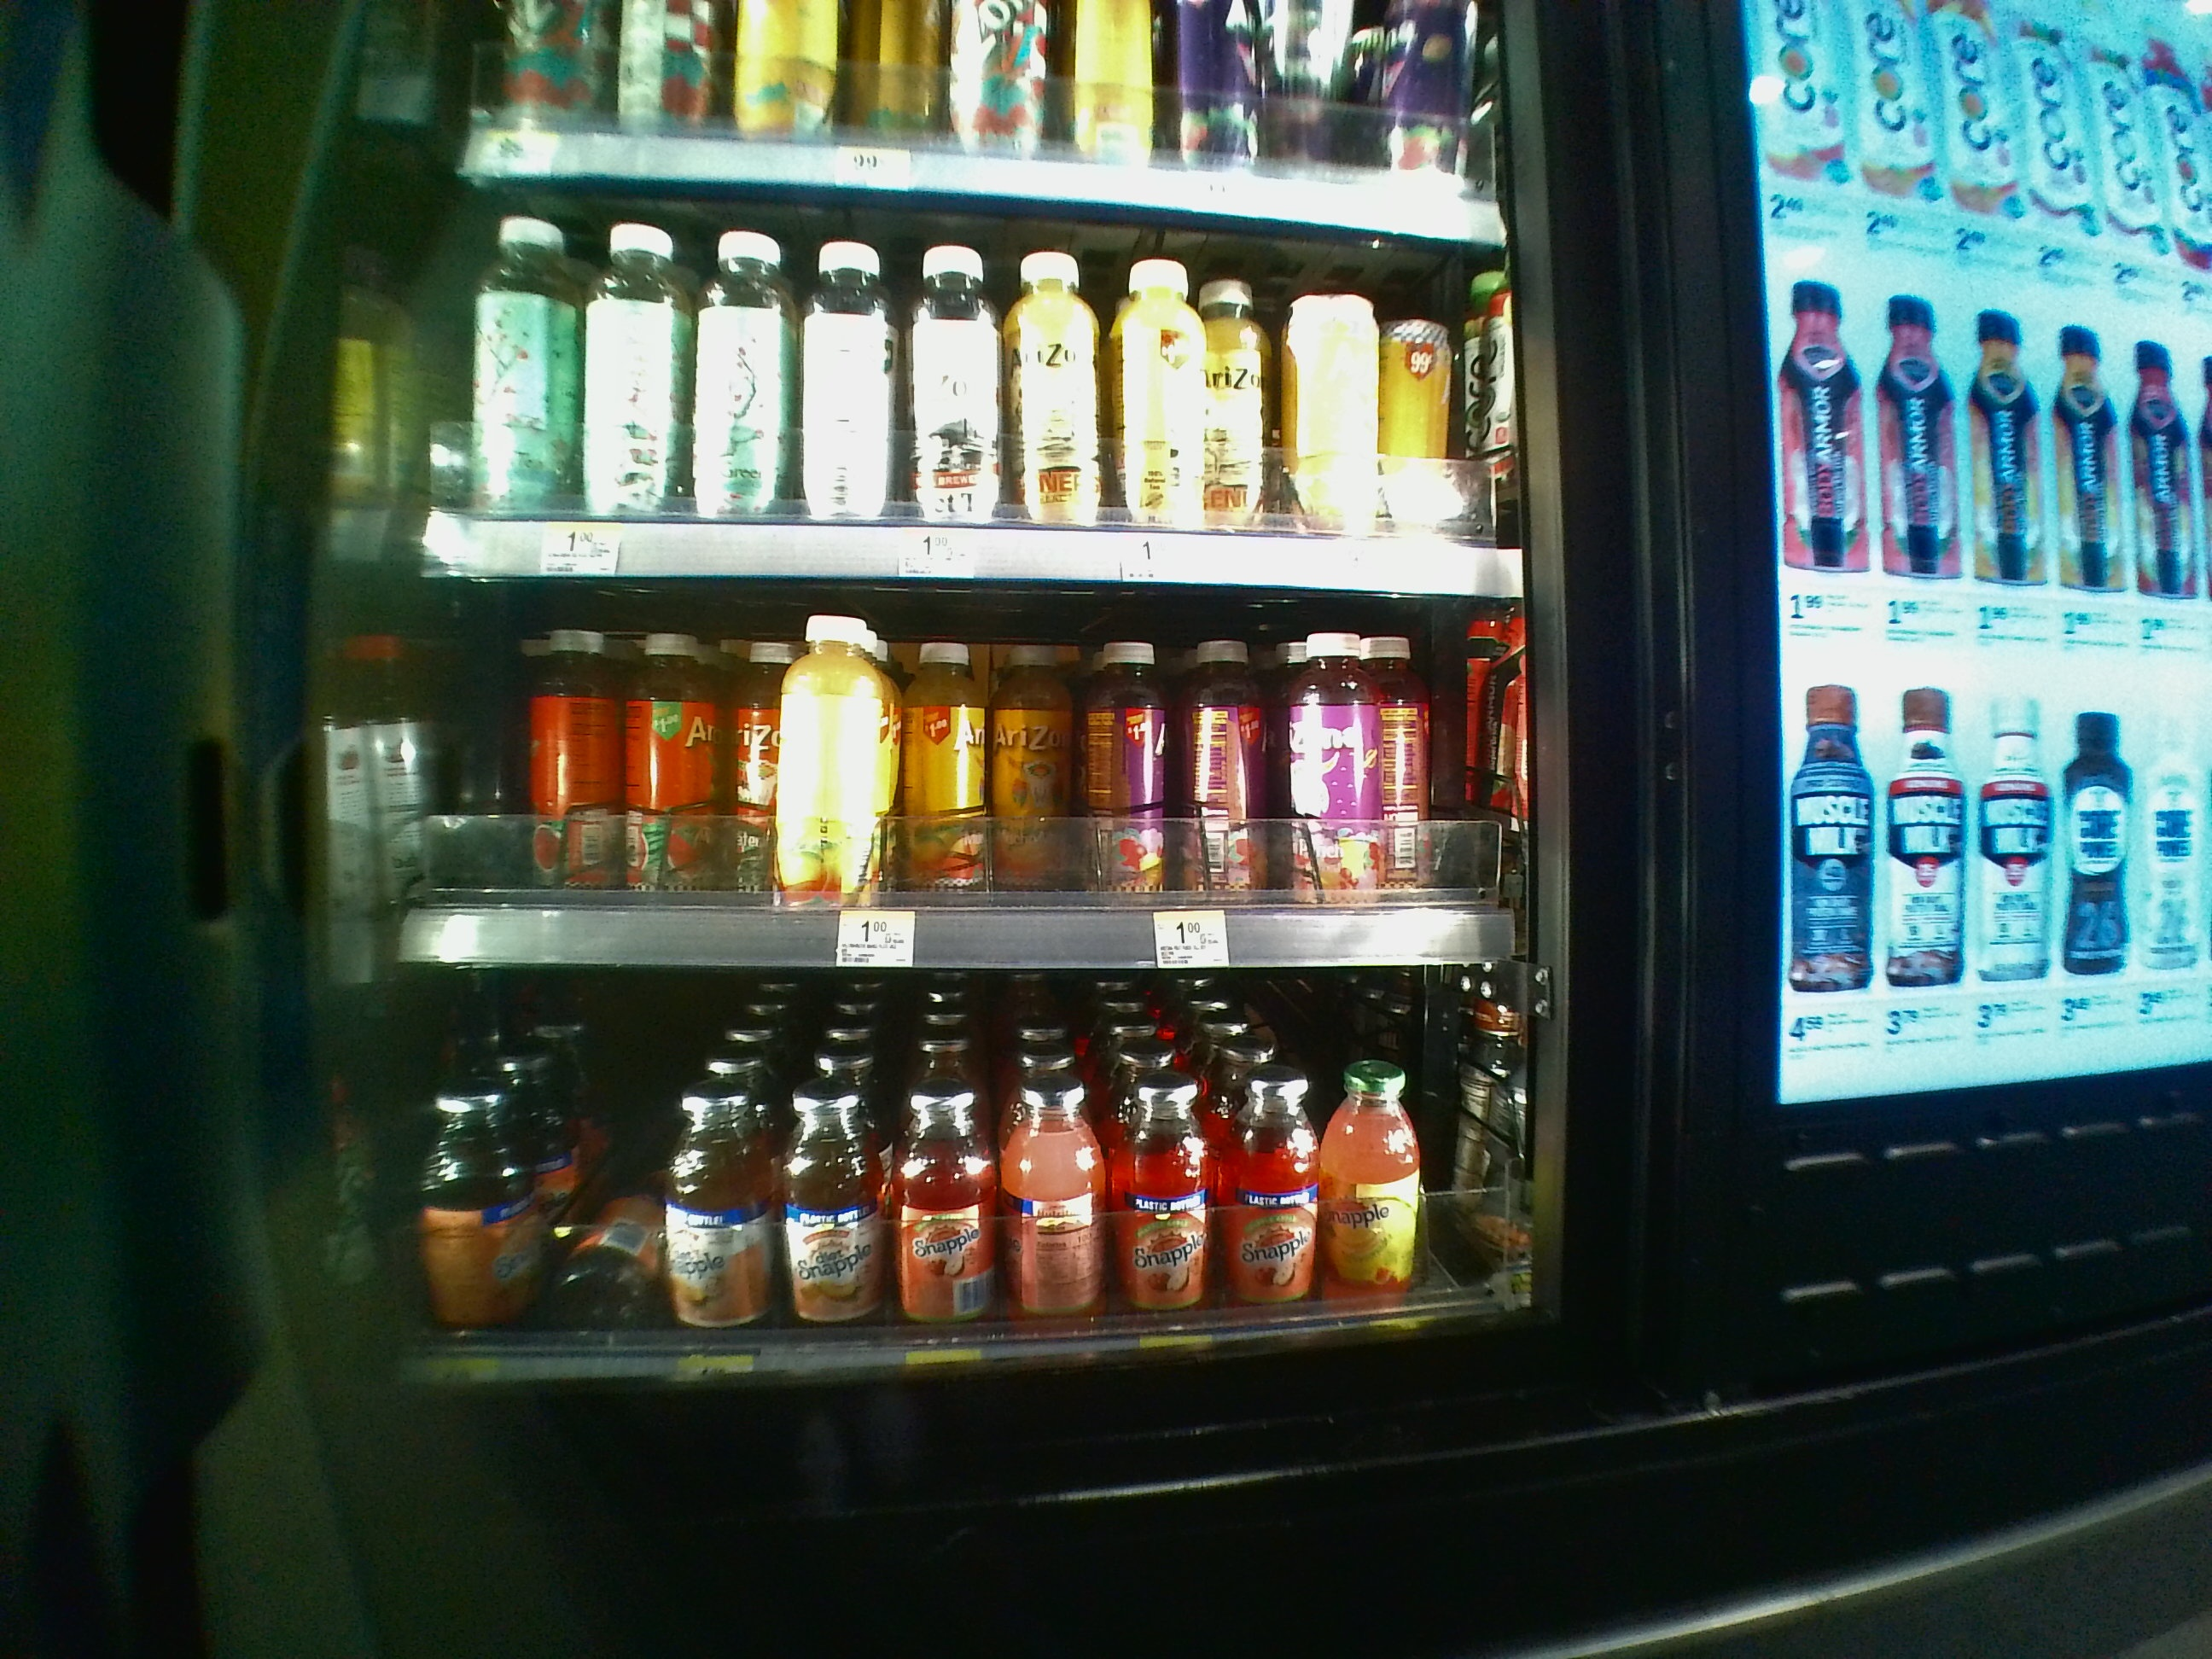shelf: (395, 988, 1531, 1424), (421, 174, 1519, 591), (399, 603, 1531, 969)
